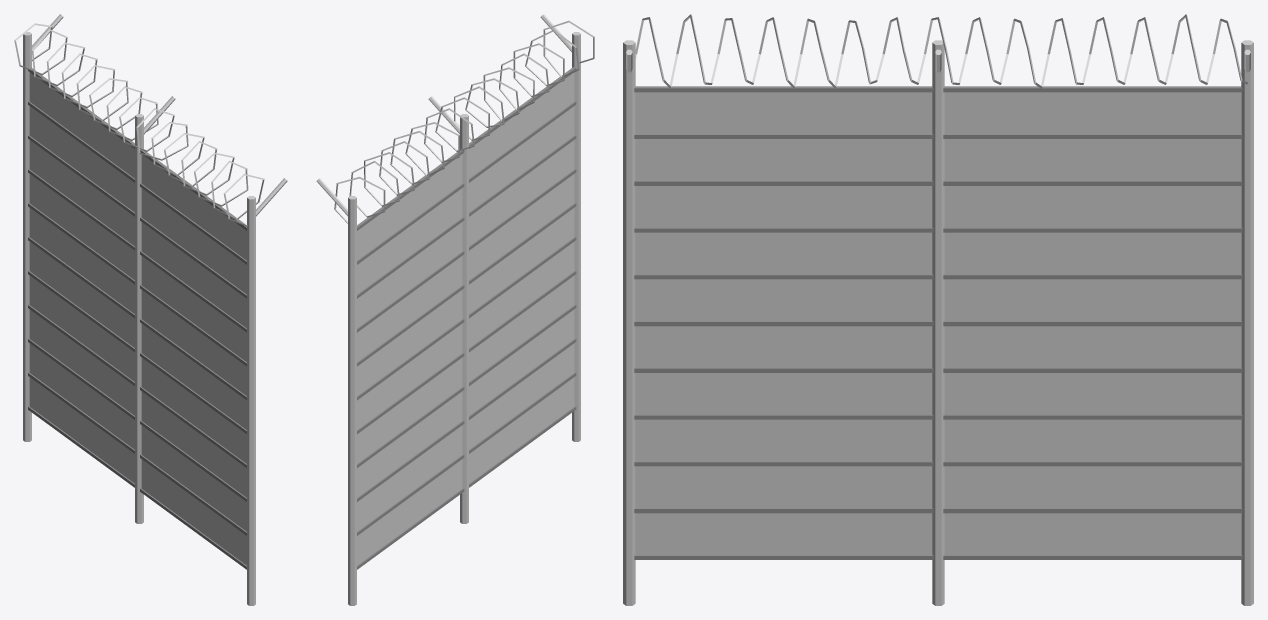
Rendered from Fence_Razor_01.FBX.
The picture shows the model from 3 angles, left to right: view 1: azimuth 30°, elevation 25°; view 2: azimuth 150°, elevation 25°; view 3: azimuth 270°, elevation 25°; orthographic projection. The views are drawn at different scales.
Visible parts, largest first — view 1: Fence_Razor_01_Plane, Fence_Razor_01_LOD0, Fence_Razor_01_Wire_LOD0; view 2: Fence_Razor_01_Plane, Fence_Razor_01_LOD0, Fence_Razor_01_Wire_LOD0; view 3: Fence_Razor_01_Plane, Fence_Razor_01_LOD0, Fence_Razor_01_Wire_LOD0.
Part boxes in pixels (x1,y1,x2,y2): Fence_Razor_01_Plane: (29,72,246,565); Fence_Razor_01_LOD0: (23,14,287,605); Fence_Razor_01_Wire_LOD0: (14,23,264,226); Fence_Razor_01_Plane: (357,73,574,565); Fence_Razor_01_LOD0: (316,14,580,605); Fence_Razor_01_Wire_LOD0: (334,20,594,223); Fence_Razor_01_Plane: (635,92,1241,554); Fence_Razor_01_LOD0: (623,40,1253,605); Fence_Razor_01_Wire_LOD0: (635,14,1247,88).
Size of what is drawn, in the model's own units: 26.63 by 186 by 180.
